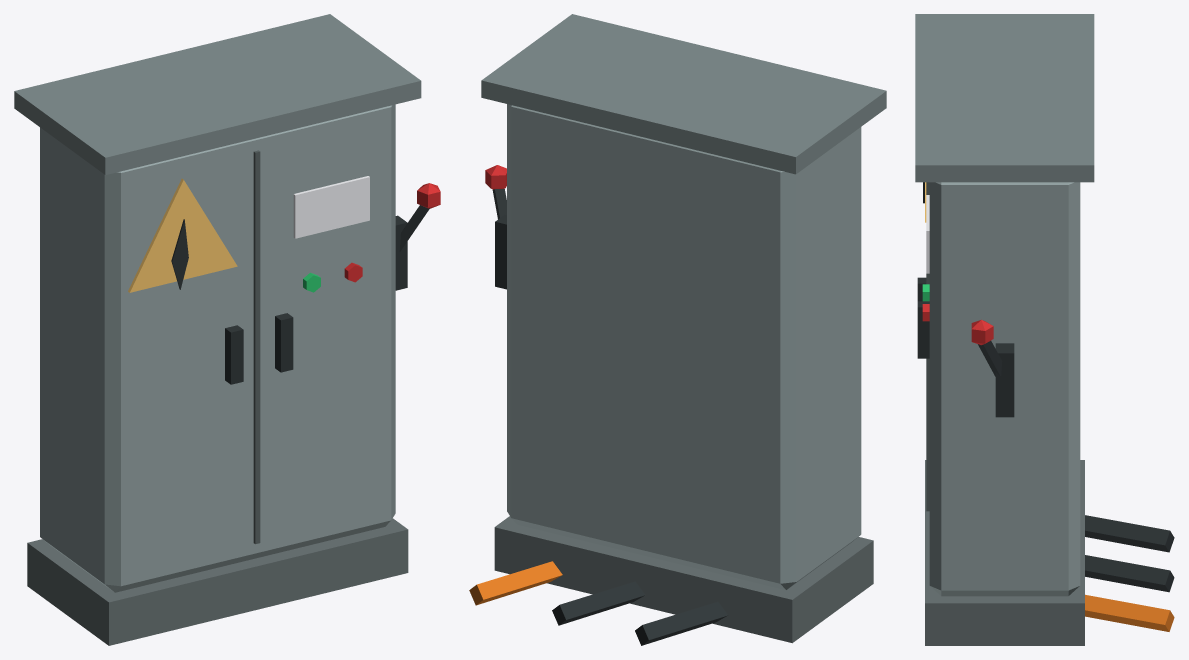
Rendered from stromkasten.glb.
The picture shows the model from 3 angles, left to right: view 1: azimuth 30°, elevation 25°; view 2: azimuth 150°, elevation 25°; view 3: azimuth 270°, elevation 25°; orthographic projection.
Visible parts, largest first — view 1: stromkasten-m; view 2: stromkasten-m; view 3: stromkasten-m.
Boxes of the visible parts, x1=… form: stromkasten-m: x1=14, y1=14, x2=440, y2=645; stromkasten-m: x1=469, y1=14, x2=886, y2=645; stromkasten-m: x1=915, y1=14, x2=1174, y2=645.
Size of the model in its own units: 0.8847 by 1.13 by 0.5499.
